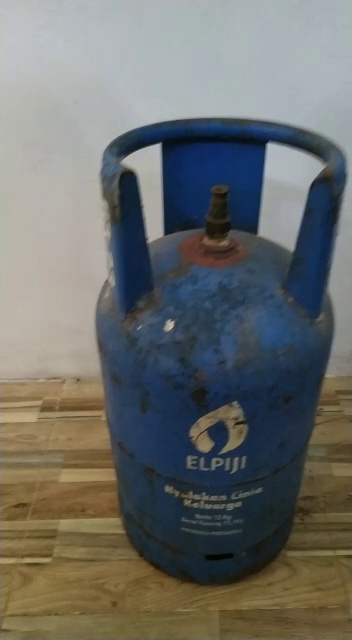blue_gas: (94, 117, 348, 587)
